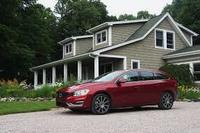car: (88, 42, 191, 96), (6, 39, 88, 71)
